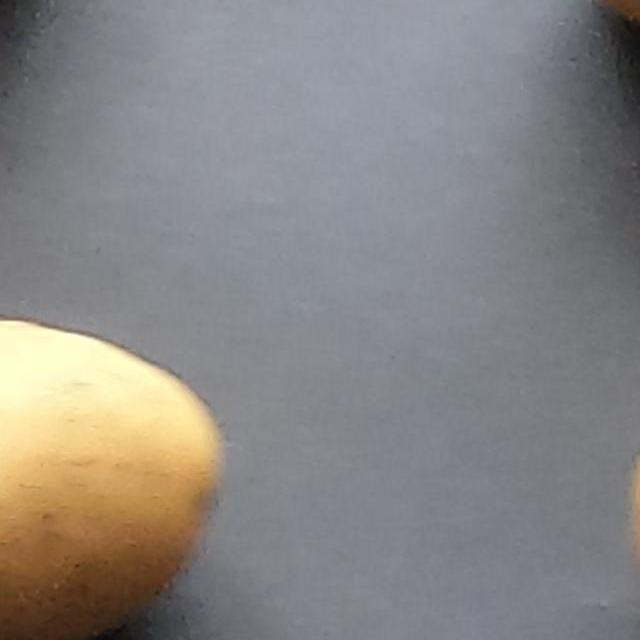potato: (0, 251, 362, 640)
